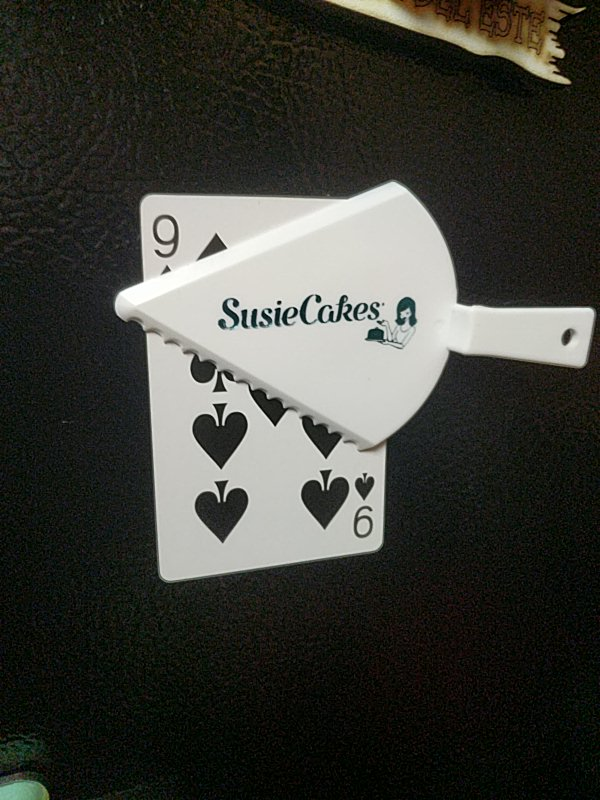Spades: (140, 194, 385, 580)
